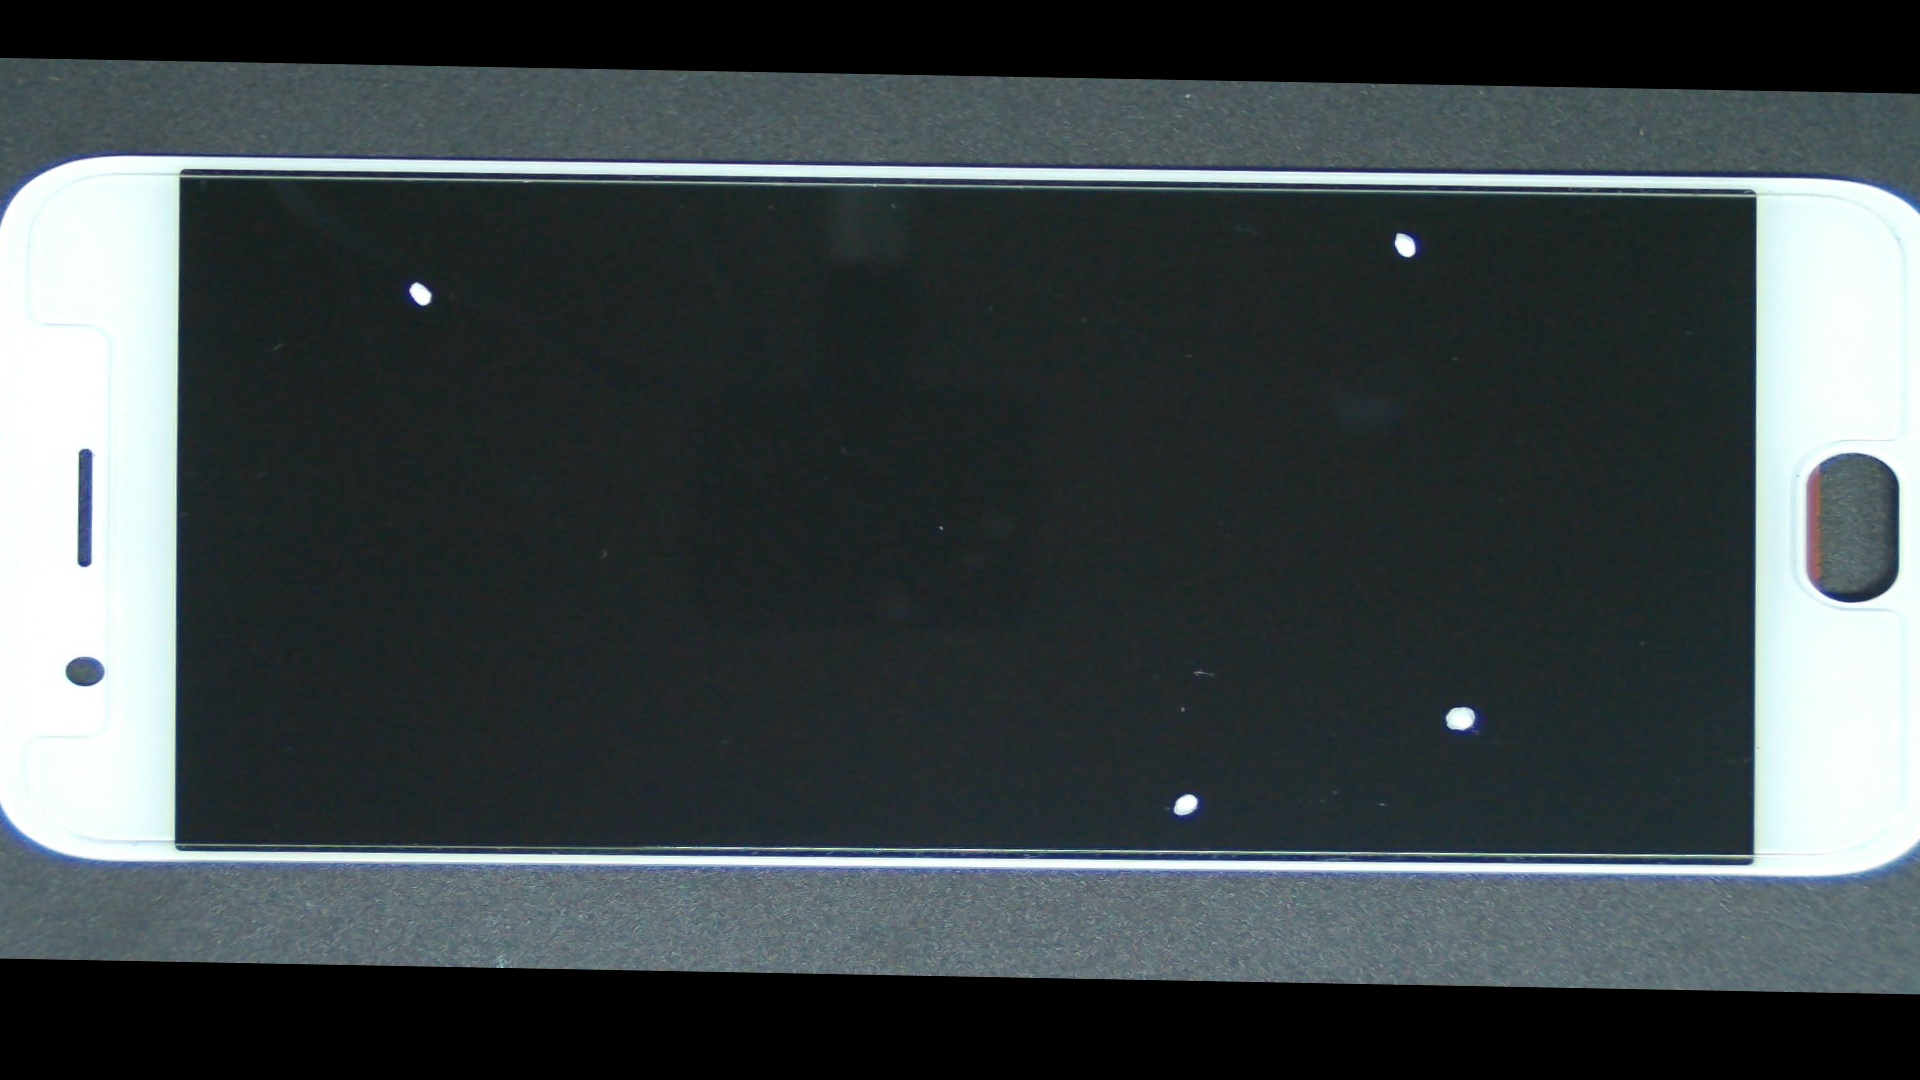oil: (673, 381, 1920, 996), (538, 423, 1841, 993), (649, 142, 1920, 318), (158, 167, 670, 394)
